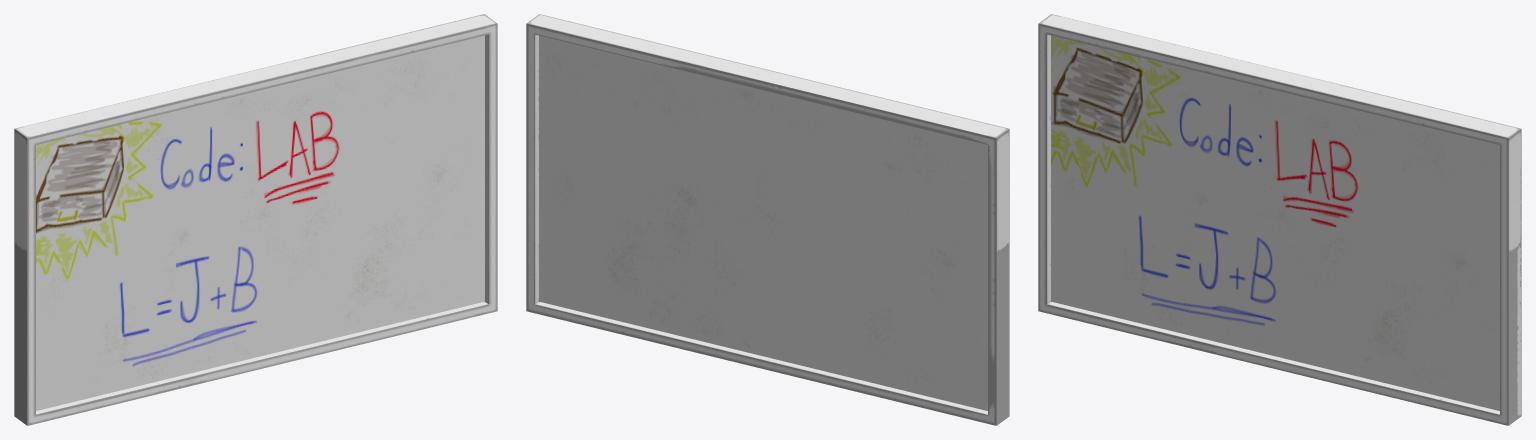
Rendered from whiteboardStand3_obj.glb.
3 renders of one model, left to right at view 1: azimuth 30°, elevation 25°; view 2: azimuth 150°, elevation 25°; view 3: azimuth 330°, elevation 25°, orthographic.
Visible parts, largest first — view 1: whiteboard_geo; view 2: whiteboard_geo; view 3: whiteboard_geo.
Part boxes in pixels (x1,y1,x2,y2): whiteboard_geo: (14, 14, 497, 425); whiteboard_geo: (526, 14, 1009, 425); whiteboard_geo: (1038, 14, 1521, 425).
Bounding box in the file's own units: 2.45 × 1.43 × 0.1172.
Materials: 1 (1 with a texture image).
